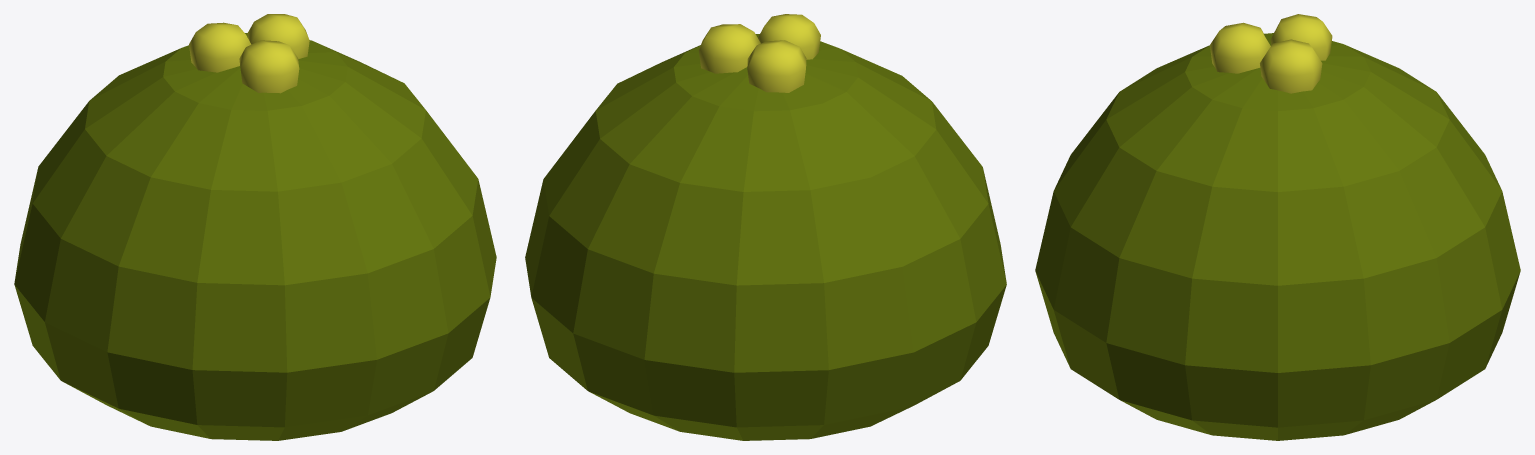
File: Cactus_24_A.fbx
3 views of the same model, side by side, from view 1: azimuth 30°, elevation 25°; view 2: azimuth 150°, elevation 25°; view 3: azimuth 270°, elevation 25° (orthographic).
Parts seen in each view (by area): view 1: Cactus_24_A; view 2: Cactus_24_A; view 3: Cactus_24_A.
Boxes of the visible parts, x1=… form: Cactus_24_A: x1=14, y1=14, x2=496, y2=440; Cactus_24_A: x1=525, y1=14, x2=1006, y2=440; Cactus_24_A: x1=1035, y1=14, x2=1520, y2=440.
Size of the model in its own units: 95.52 by 75.97 by 95.52.
